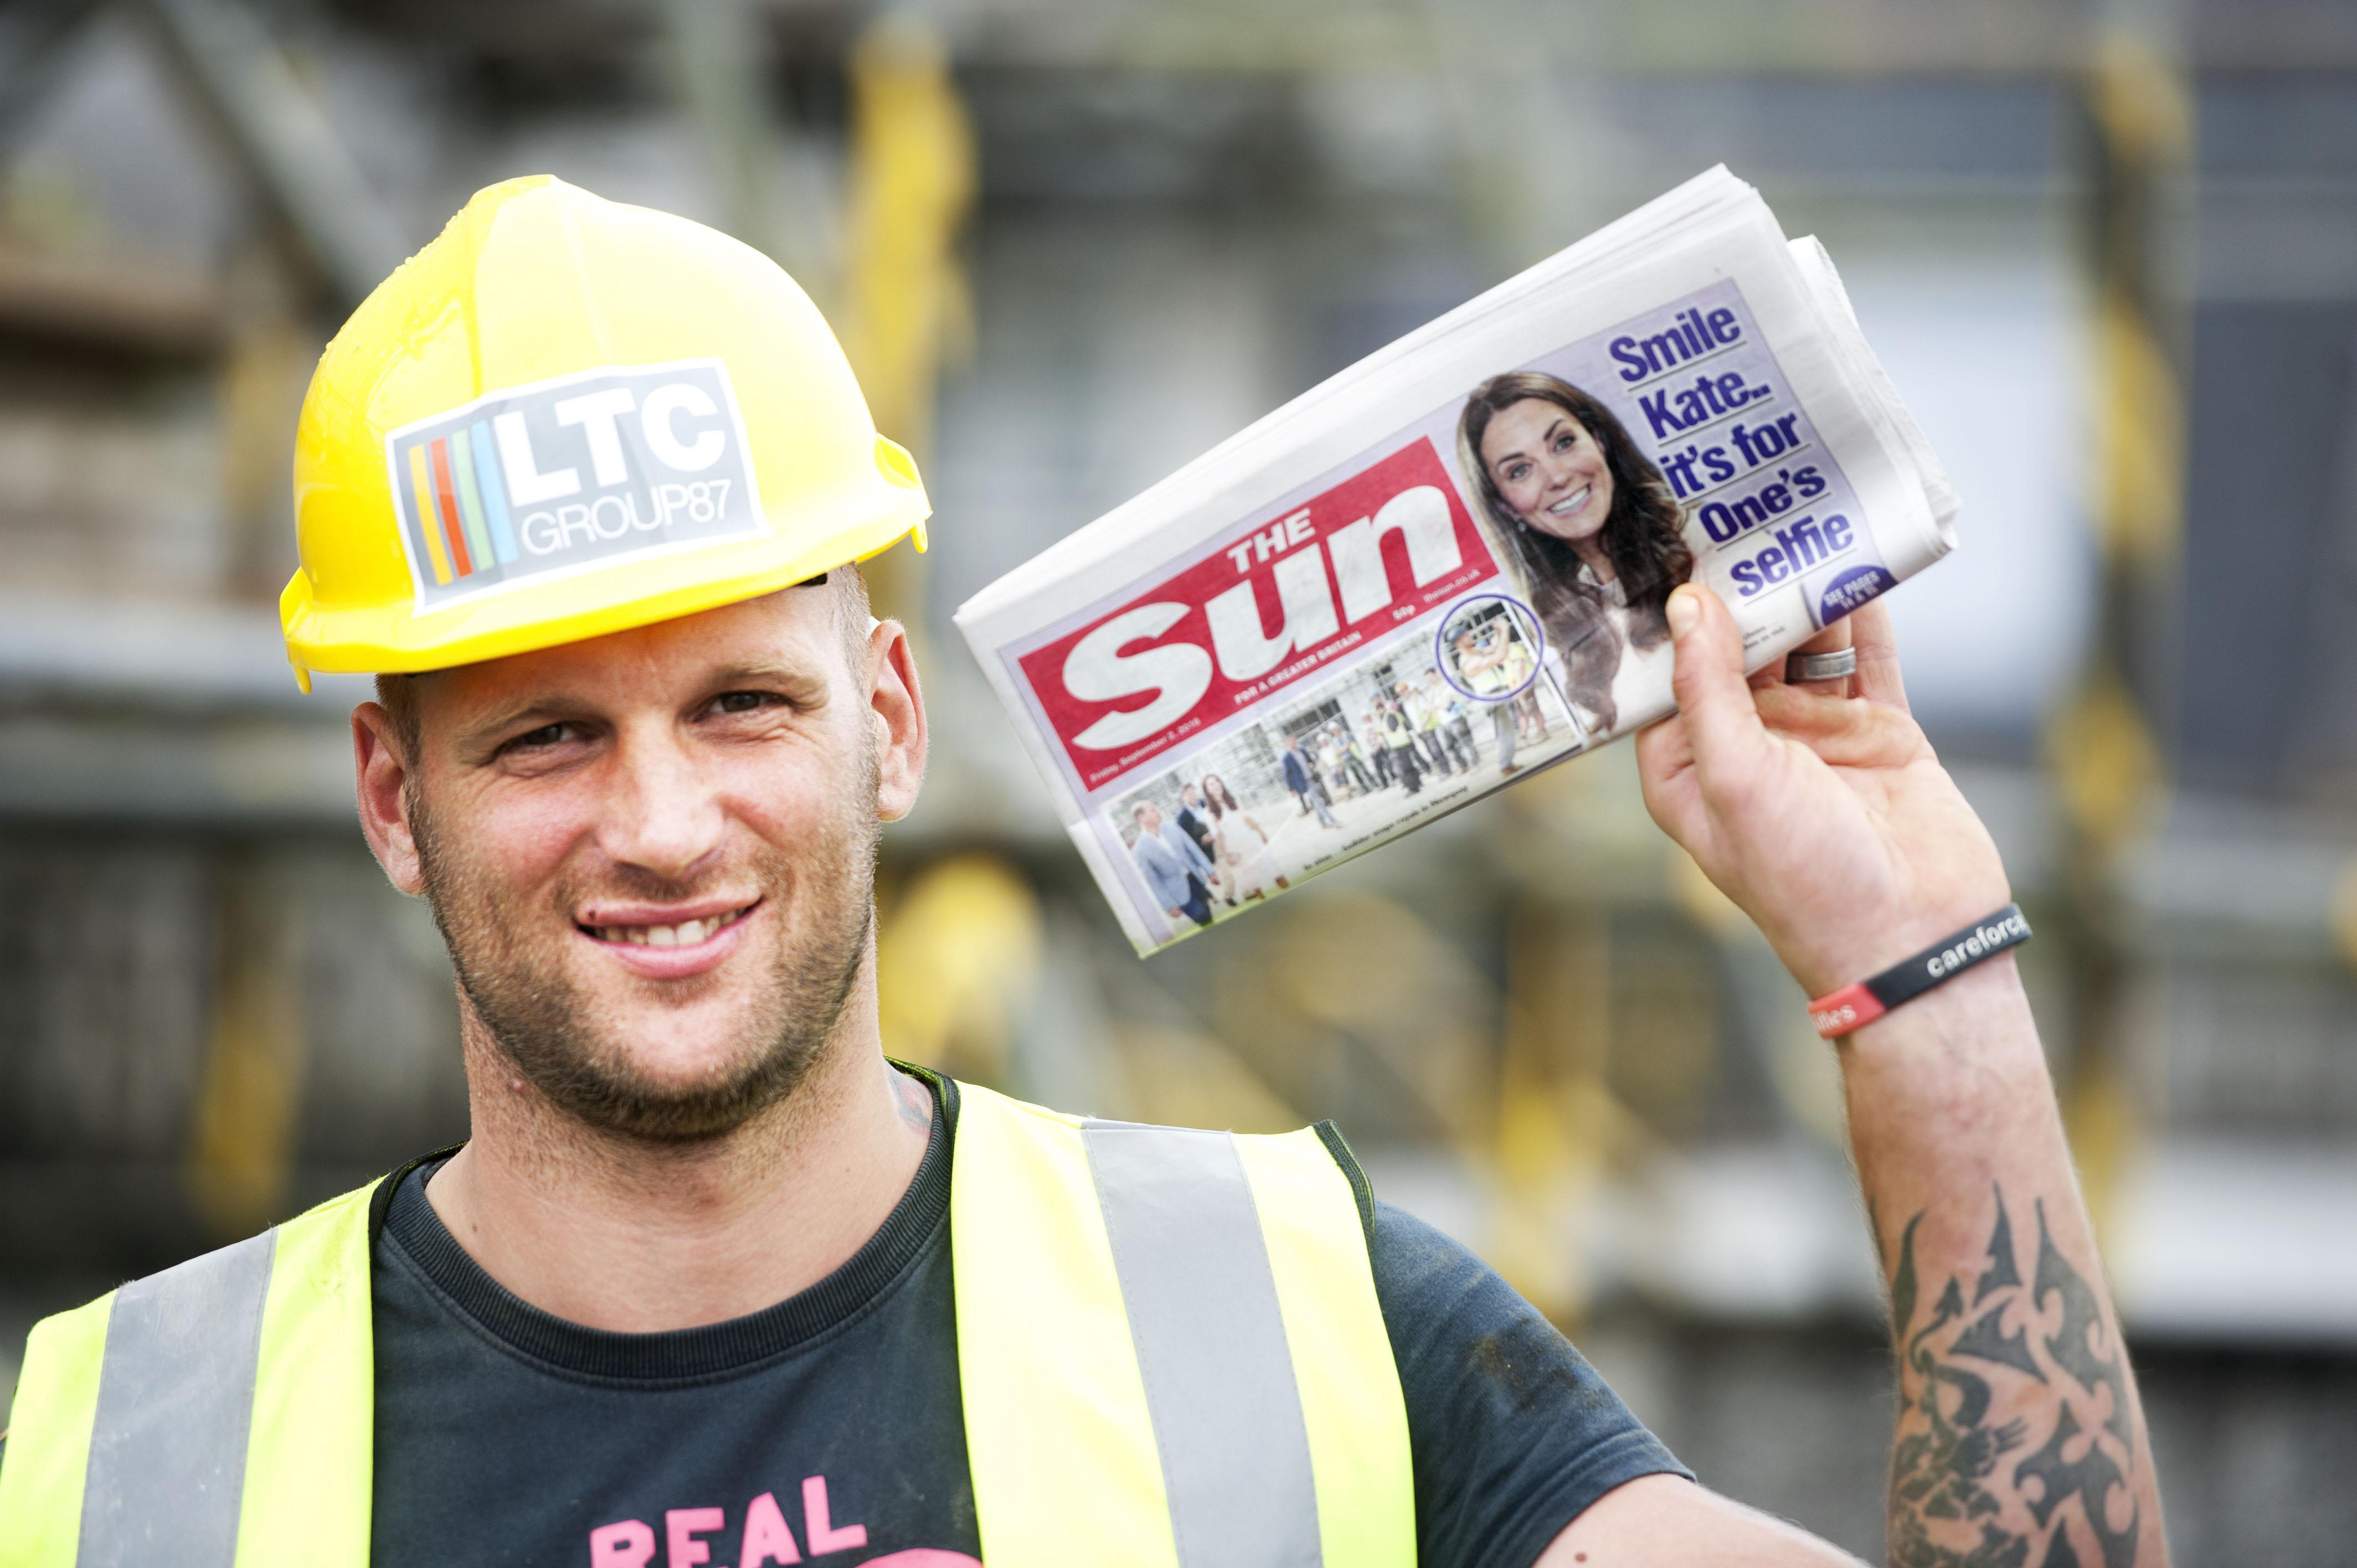helmet: (278, 170, 931, 674)
